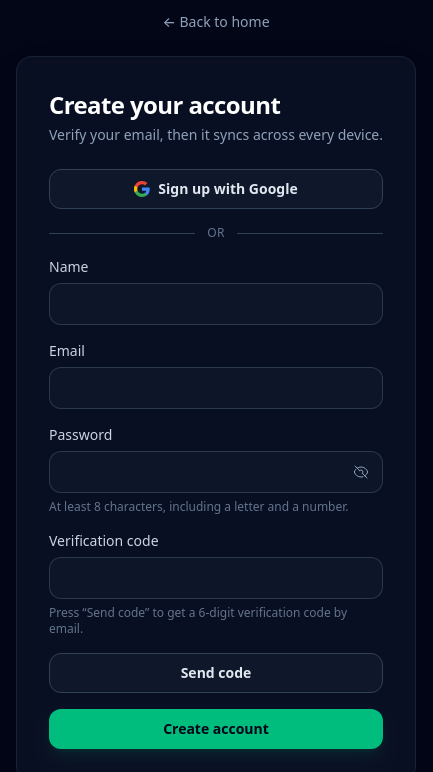
RegisterPage › maps a wrong code to a banner instead of a crash
This screenshot has width=433, height=772.
Type "Ada Lovelace" into the field labelled "Name" at (216, 304), box x1=49 y1=283 x2=383 y2=325
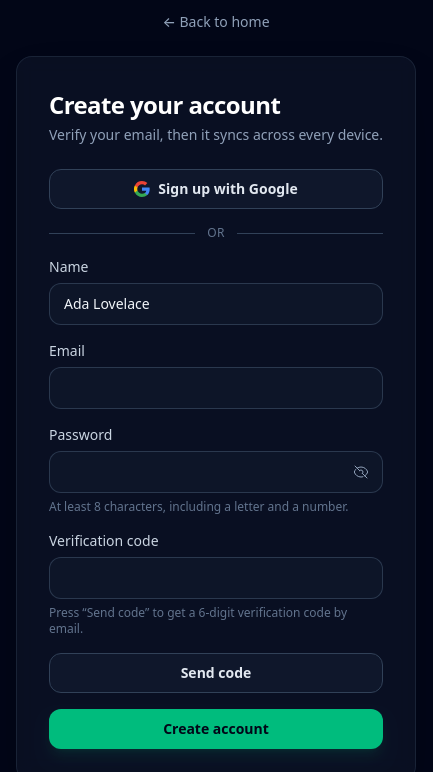
Type "ada@example.com" into the field labelled "Email" at (216, 388), box x1=49 y1=367 x2=383 y2=409
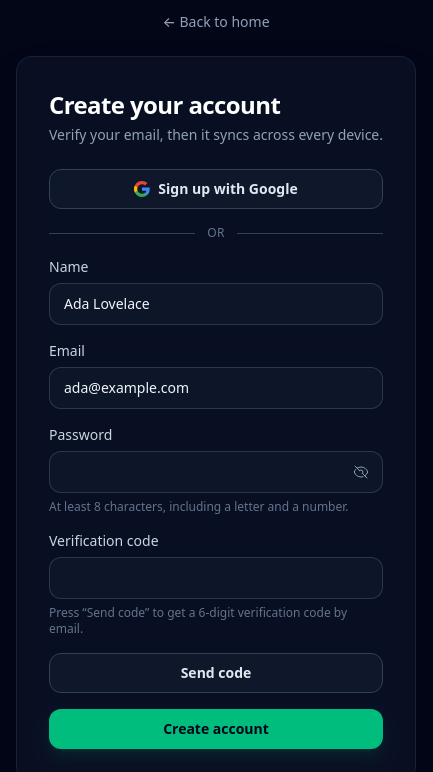
Type "Passw0rd-123" into the password field labelled "Password" at (216, 472), box x1=49 y1=451 x2=383 y2=493
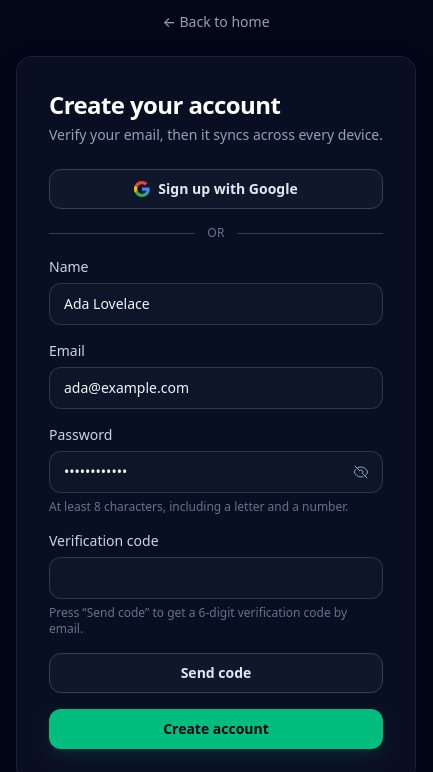
Type "000000" into the field labelled "Verification code" at (216, 578), box x1=49 y1=557 x2=383 y2=599
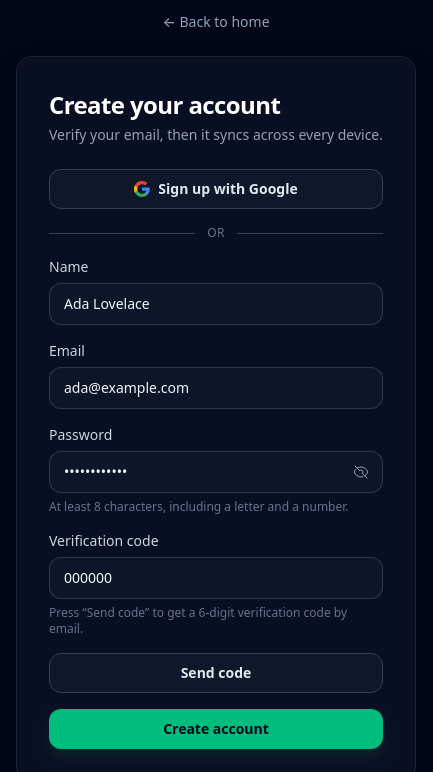
Click the button "Create account" at (216, 729), box x1=49 y1=709 x2=383 y2=749
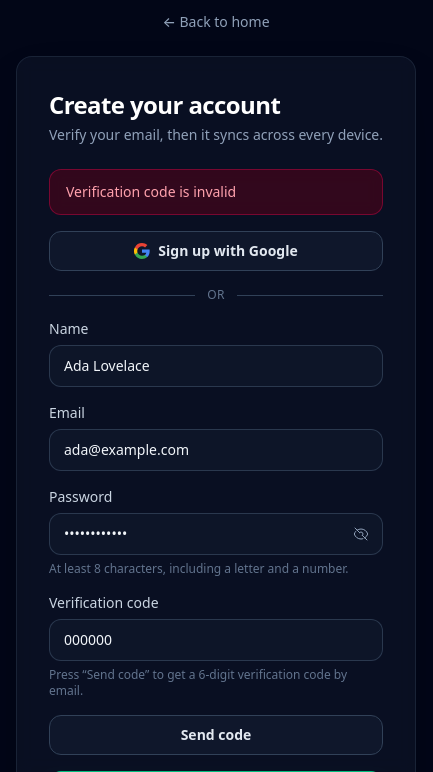
expect the message reads "Verification code is invalid": met, box x1=66 y1=182 x2=236 y2=201
